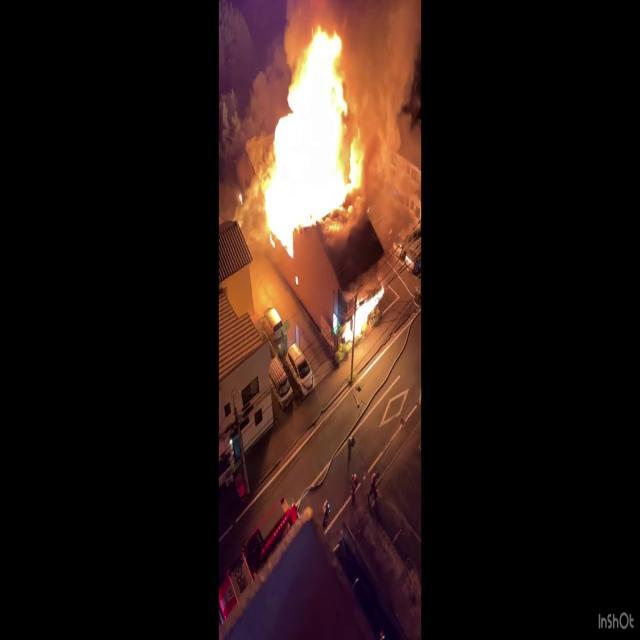Fire: (254, 20, 370, 245), (340, 280, 384, 353)
Smoke: (348, 0, 420, 215)
